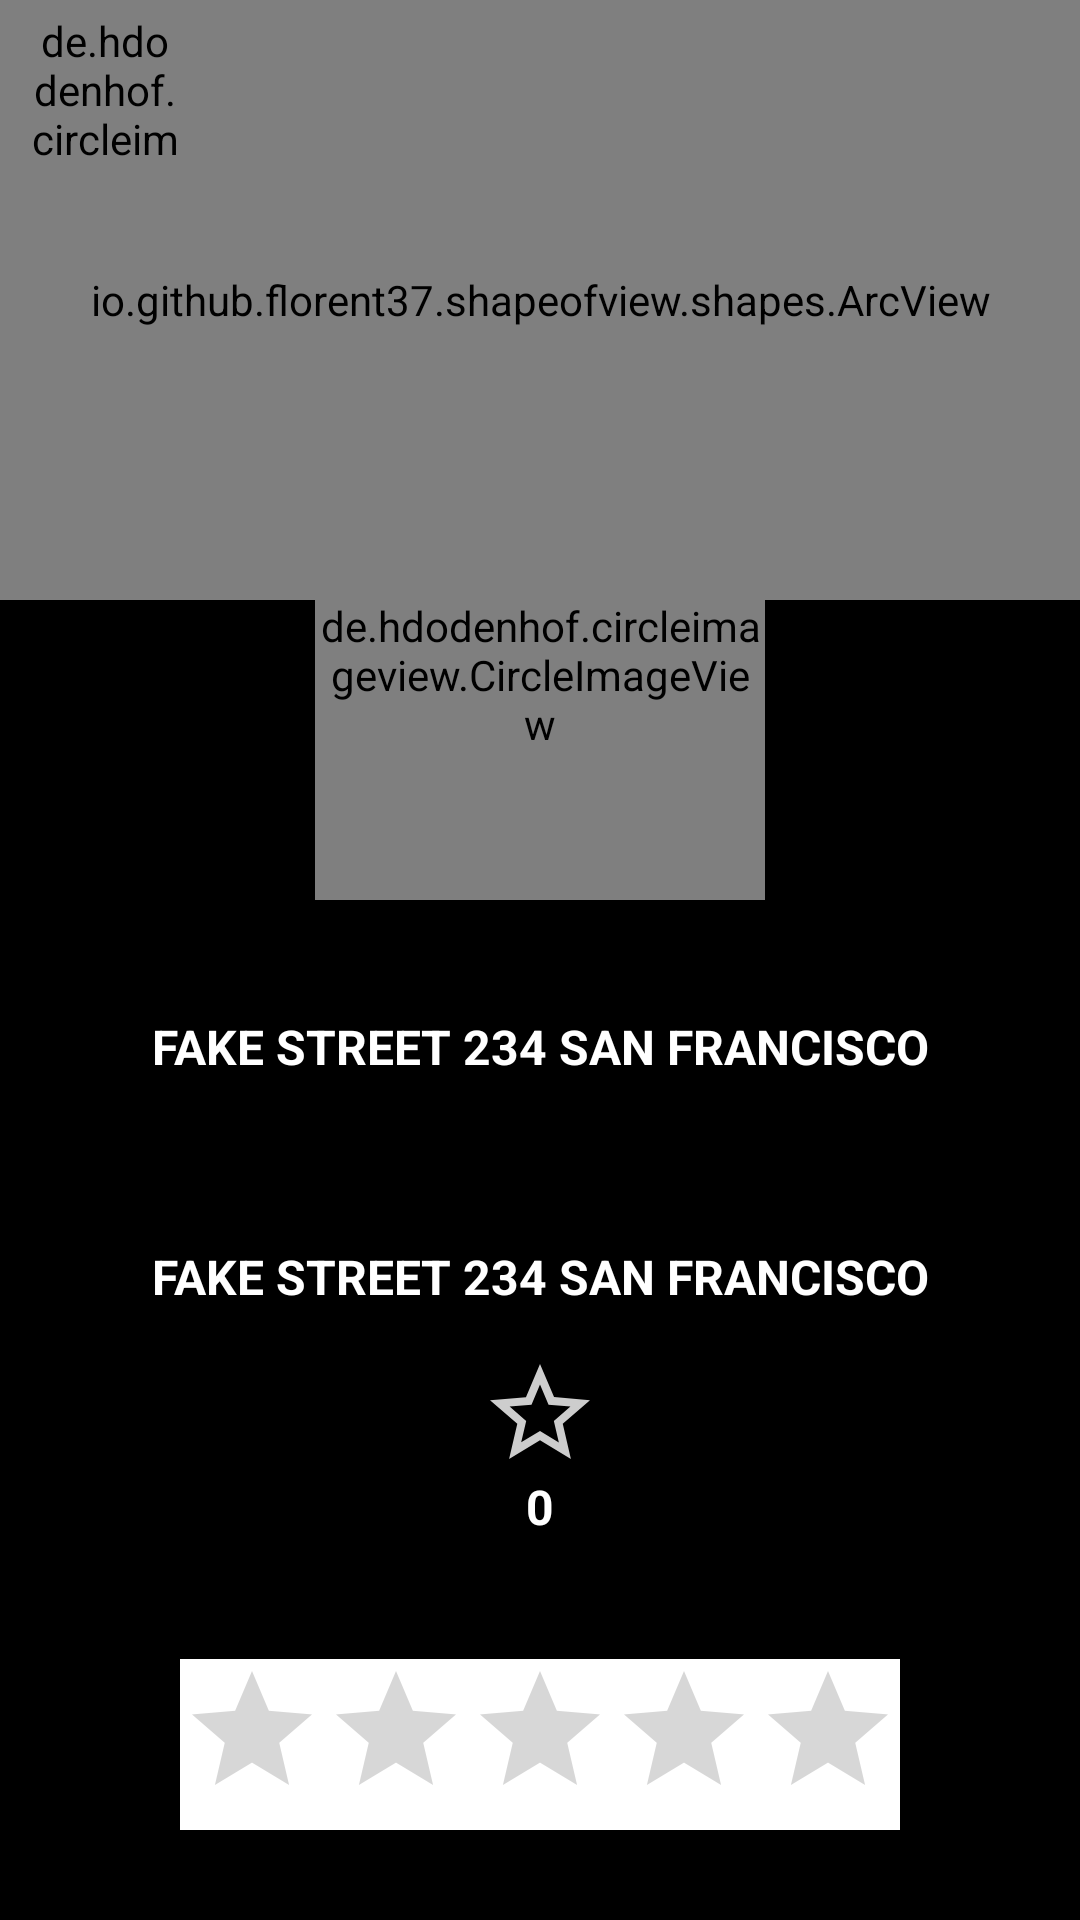

Screen size 1080w x 1920h. Icon name, then its box in pixels as detection(x1, y1, x2, y2):
star: detection(490, 1364, 590, 1459)
